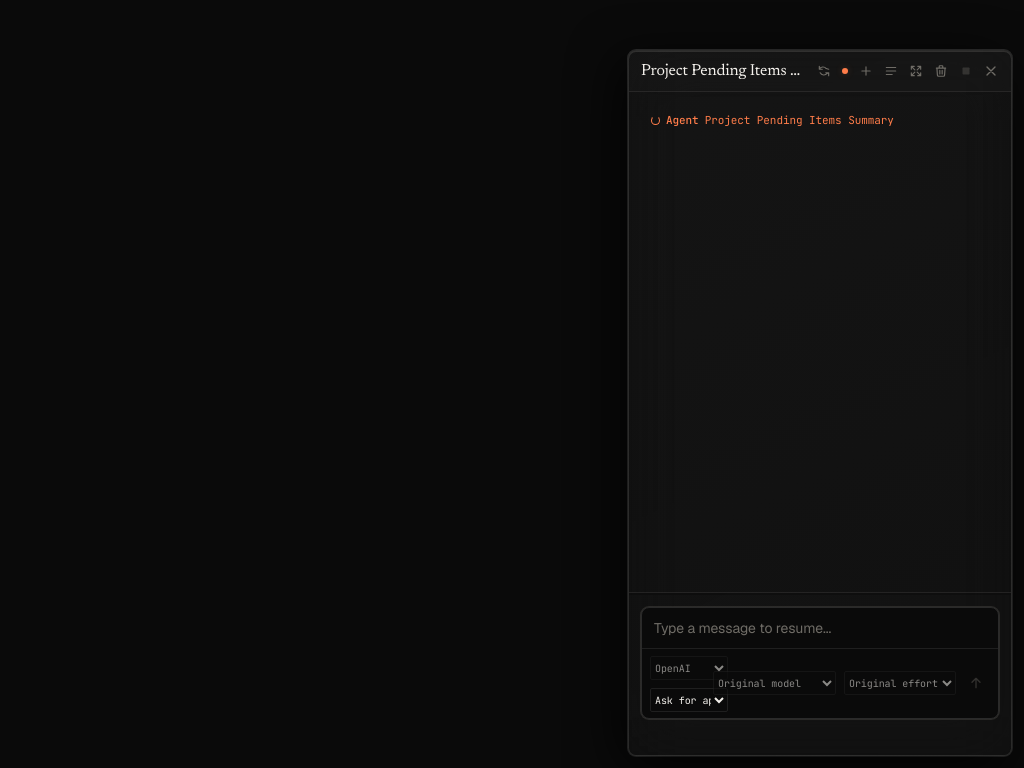
Test: ChatWindowManager › keeps top-level provider sessions visible when their own outline references their provider thread
Click the button named "Widen chat panel" at (916, 71), box [904, 59, 928, 83]
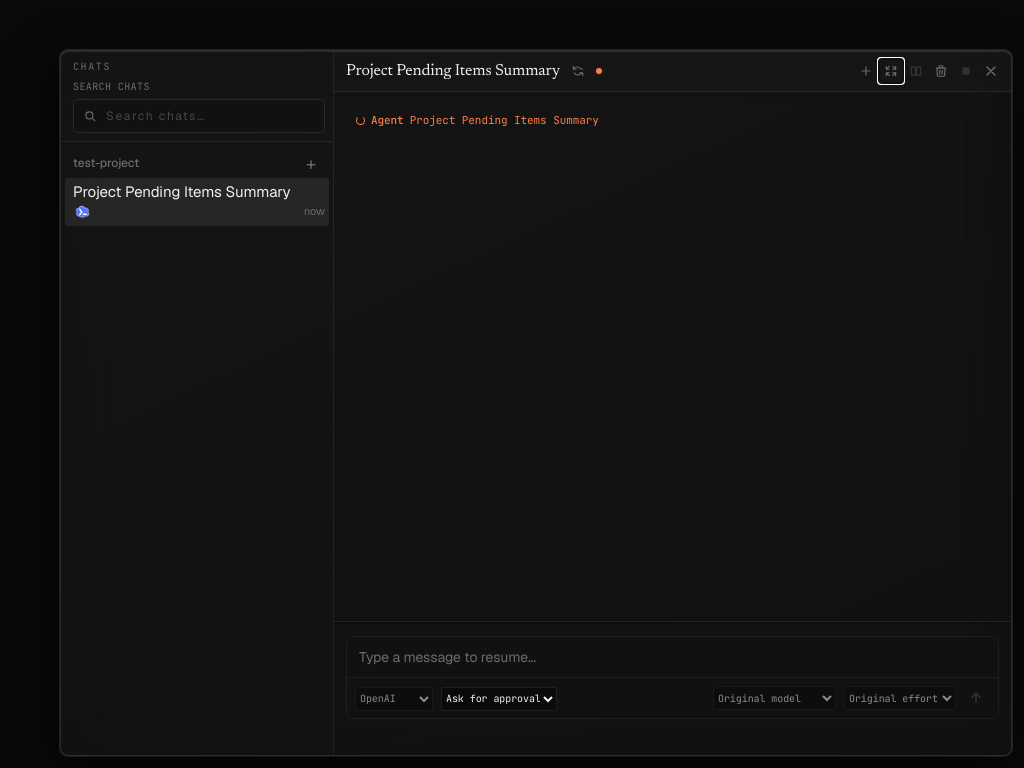
Now the button named "Load local chat Project Pending Items Summary into active pane" is shown, box [73, 182, 325, 202]
